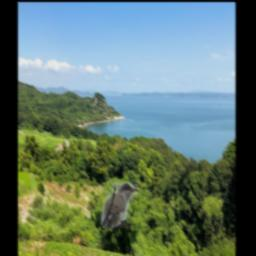Cuckoo: (102, 181, 139, 228)
